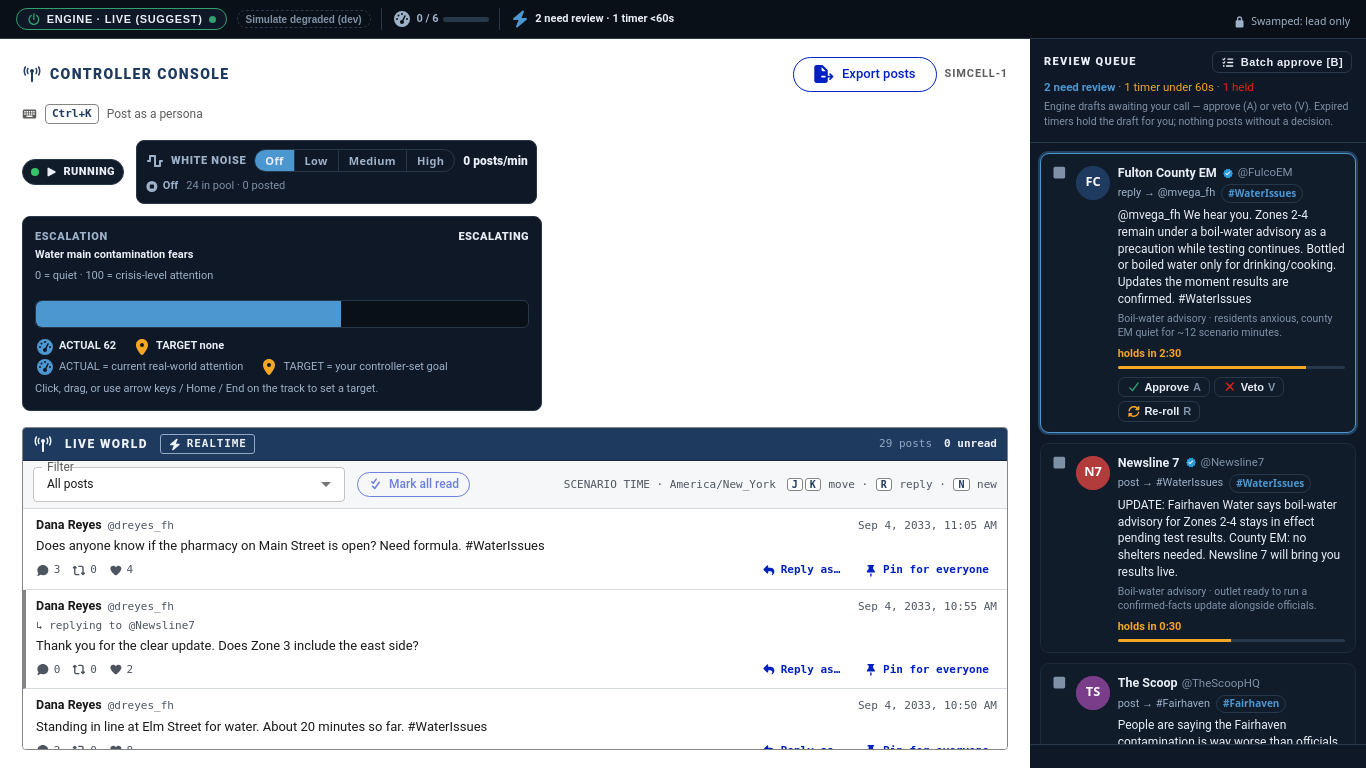
Test: LiveWorldColumn mounted through ControllerConsole.liveWorldSlot › "Reply as…" reaches ctx.openComposer with the ReplyTarget (palette opens: no persona active)
The image size is (1366, 768).
Click the button with test id "live-world-reply-as" below "Sep 4, 2033, 11:05 AM" at {"x": 801, "y": 570}, box x1=754 y1=558 x2=848 y2=582
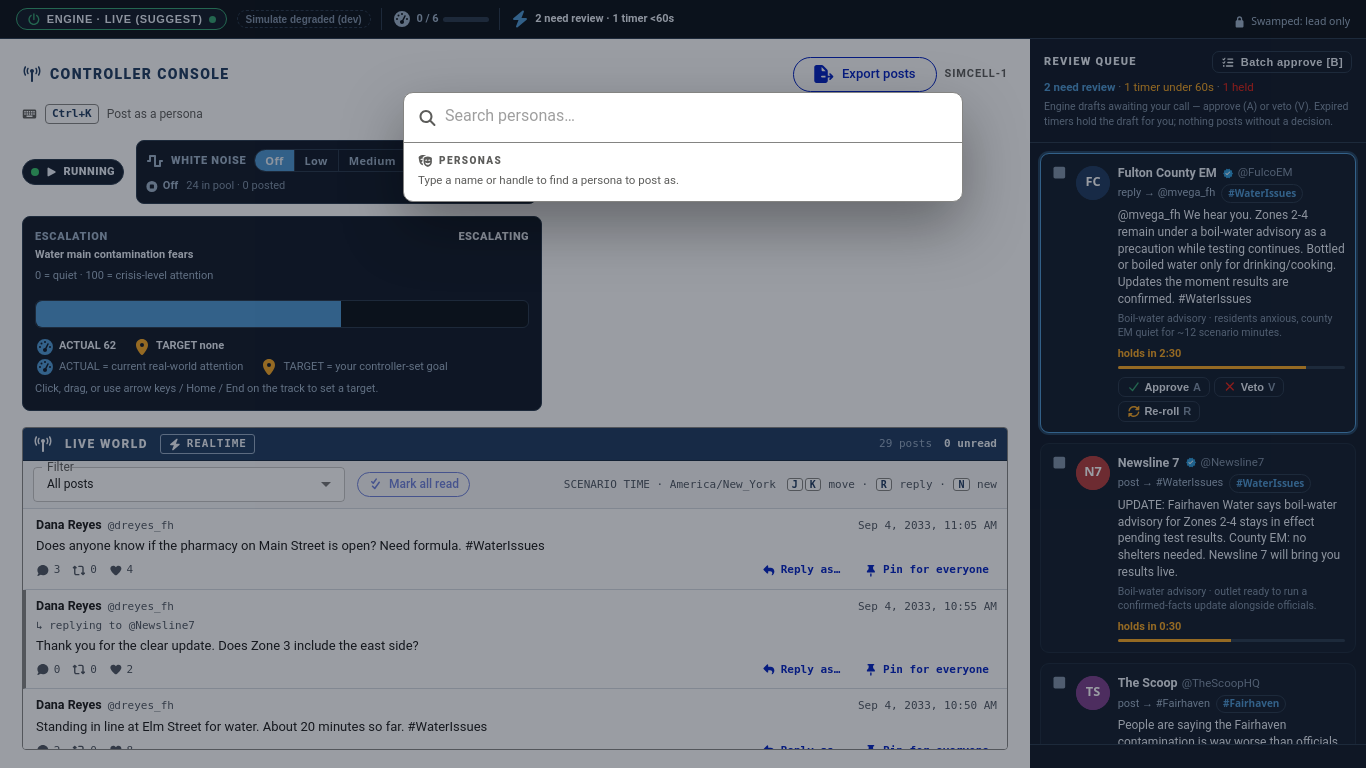
expect the dialog named "command palette" is shown: met, box x1=403 y1=92 x2=963 y2=202
